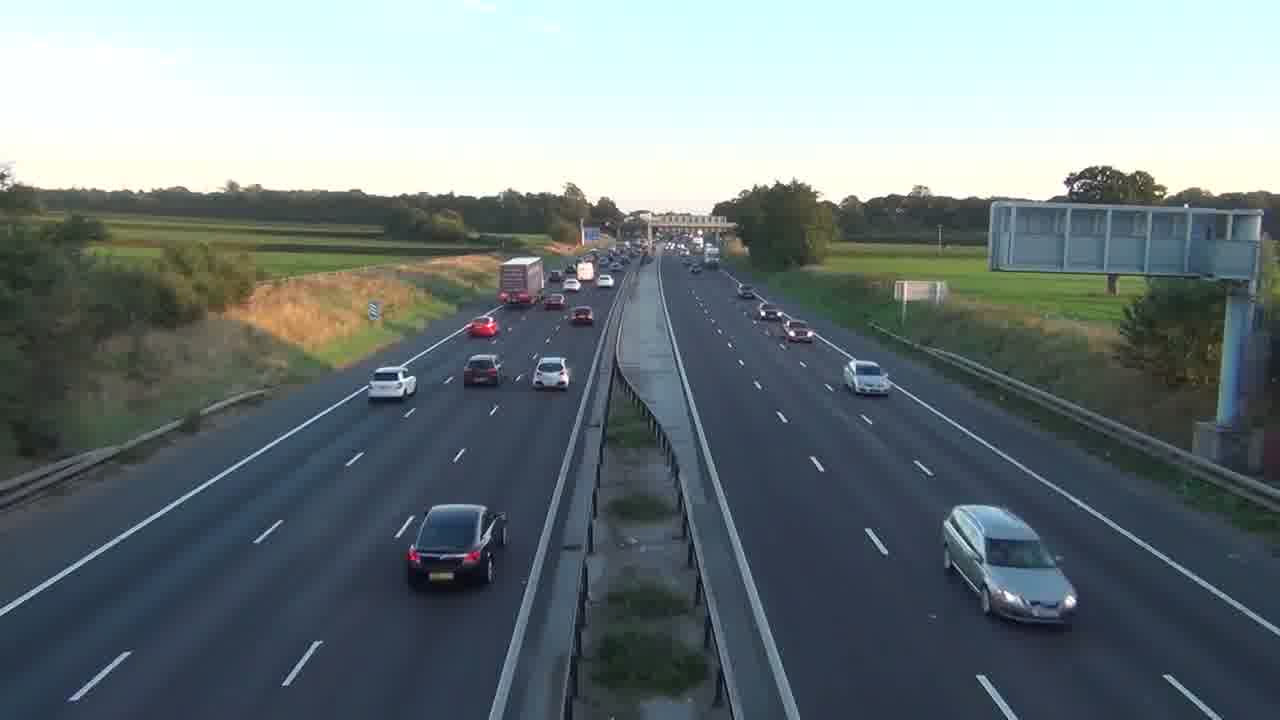bus: (496, 255, 545, 307)
car: (402, 503, 509, 588), (842, 359, 891, 398), (367, 365, 417, 401), (531, 355, 572, 390), (463, 352, 502, 388), (463, 317, 499, 339), (569, 304, 594, 326)
truck: (941, 503, 1079, 629), (496, 255, 545, 307)
